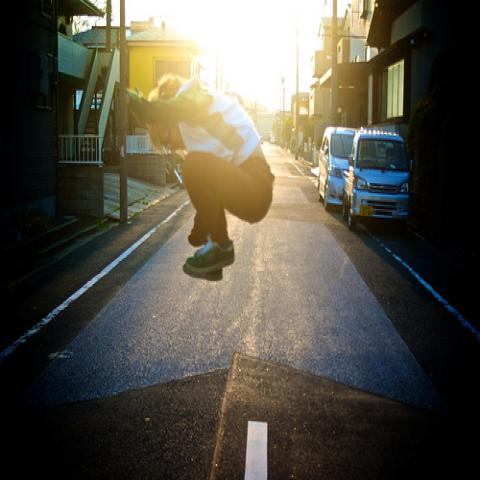car: (339, 126, 417, 229), (317, 128, 355, 206), (270, 138, 276, 143)
